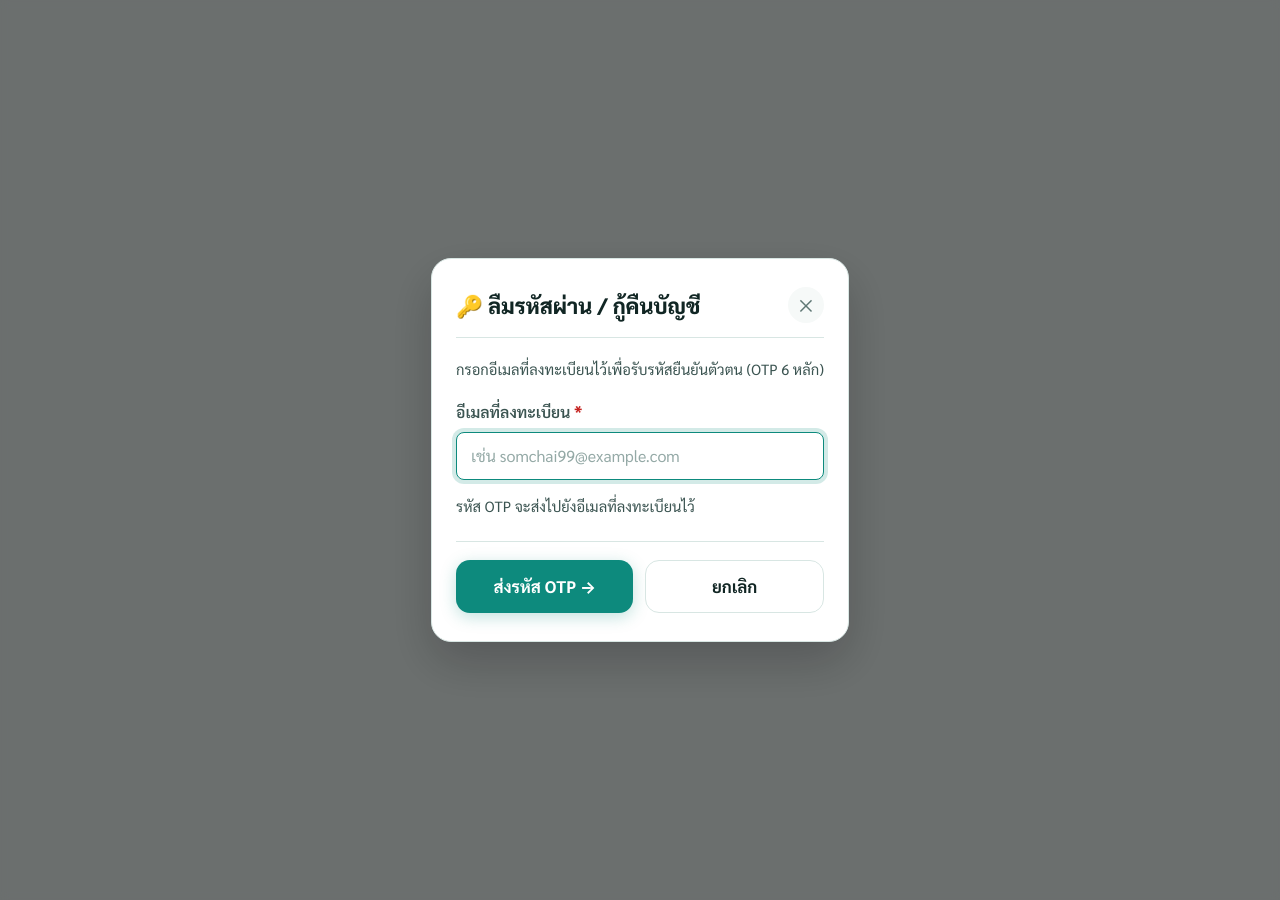
Scenario: ForgotPasswordModal › stays on the request step when SMTP delivery fails
The image size is (1280, 900).
Type "somchai@example.com" into the field with placeholder "เช่น somchai99@example.com" at [640, 456], box top-left (456, 432), bottom-right (824, 480)
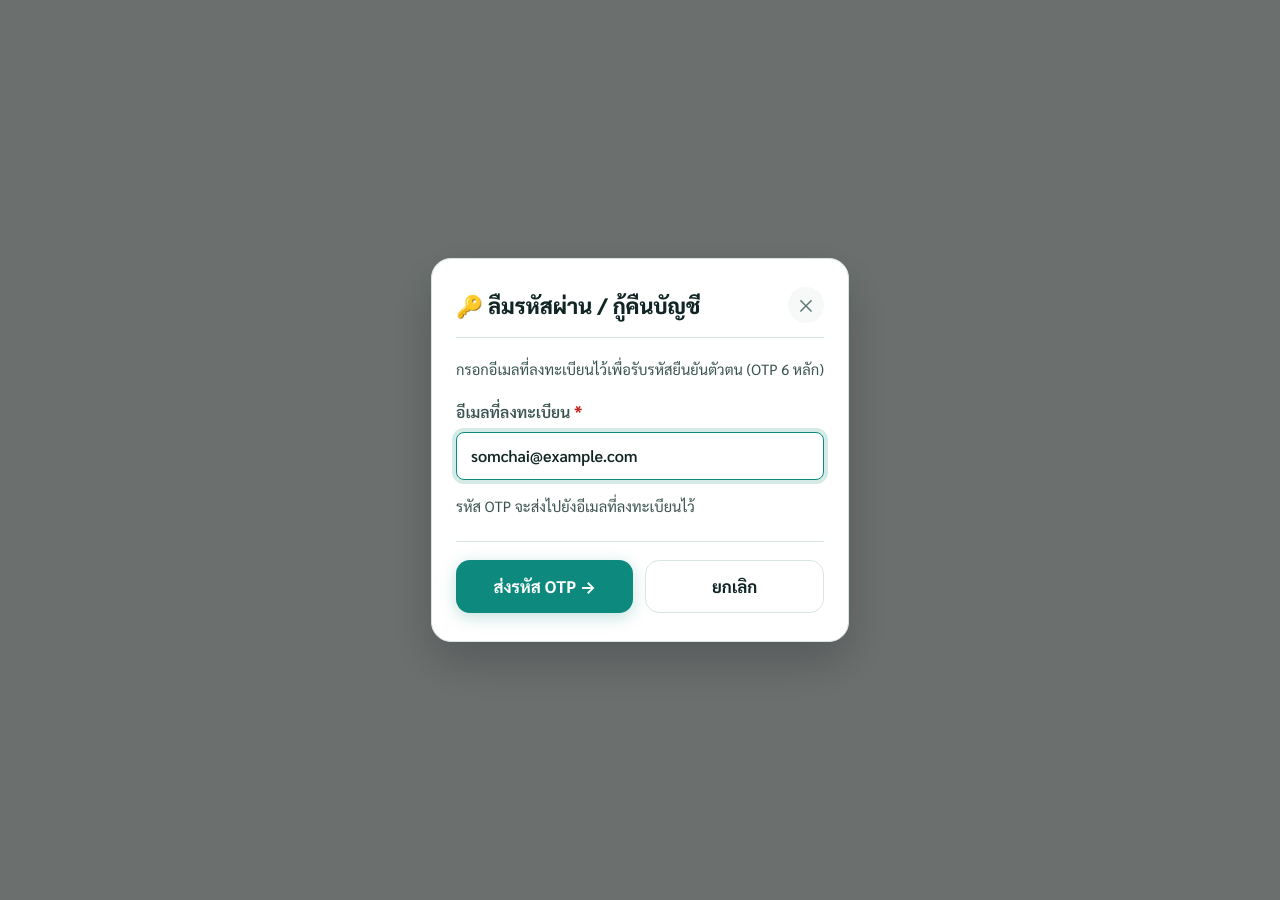
Click the button "ส่งรหัส OTP →" at [545, 586], box top-left (456, 560), bottom-right (633, 613)
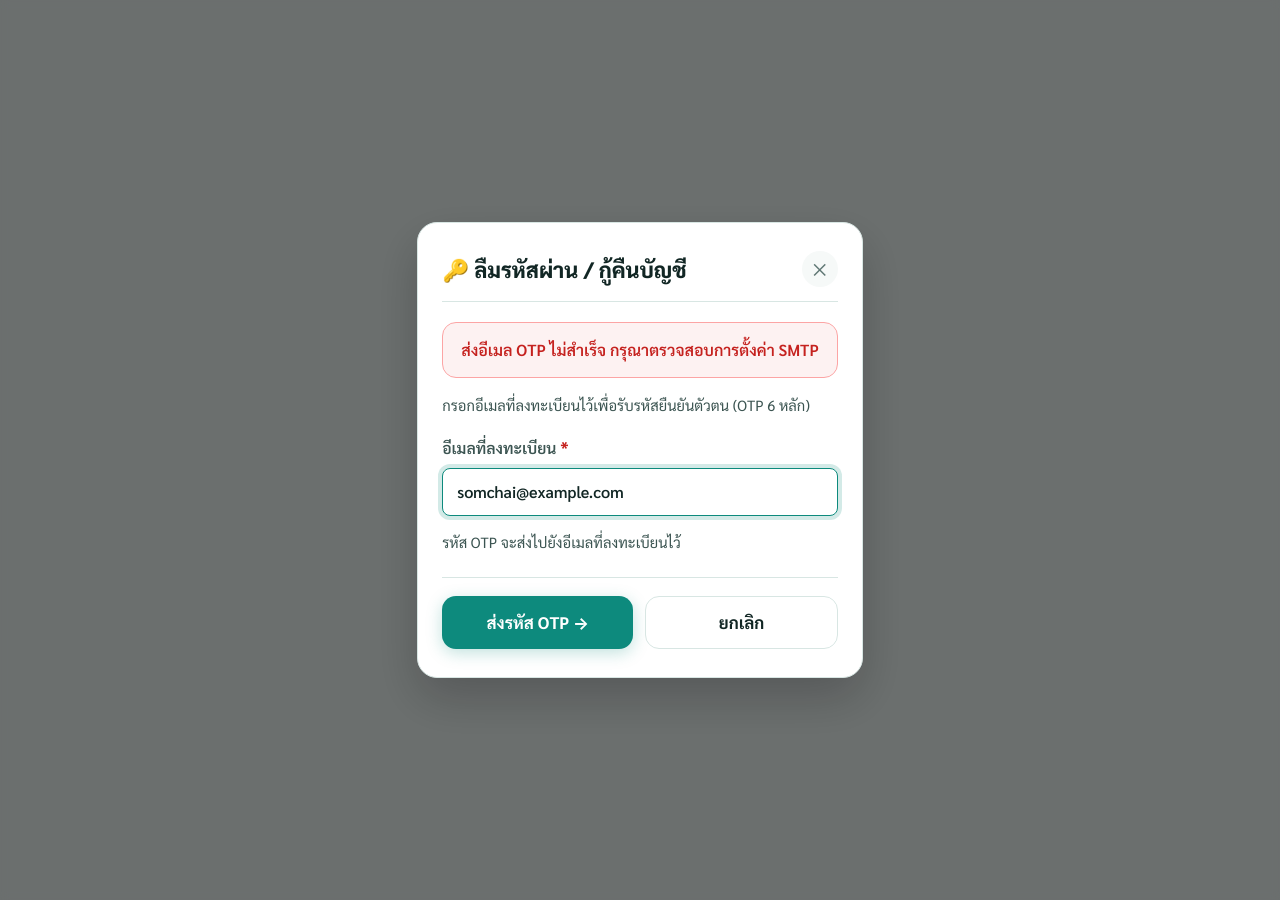
Expected: the heading "🔑 ลืมรหัสผ่าน / กู้คืนบัญชี" is shown, top-left (442, 252), bottom-right (686, 286)
Expected: the message shows "ส่งอีเมล OTP ไม่สำเร็จ", top-left (461, 339), bottom-right (819, 360)
